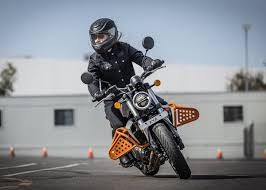motorcycle: (78, 37, 199, 190)
